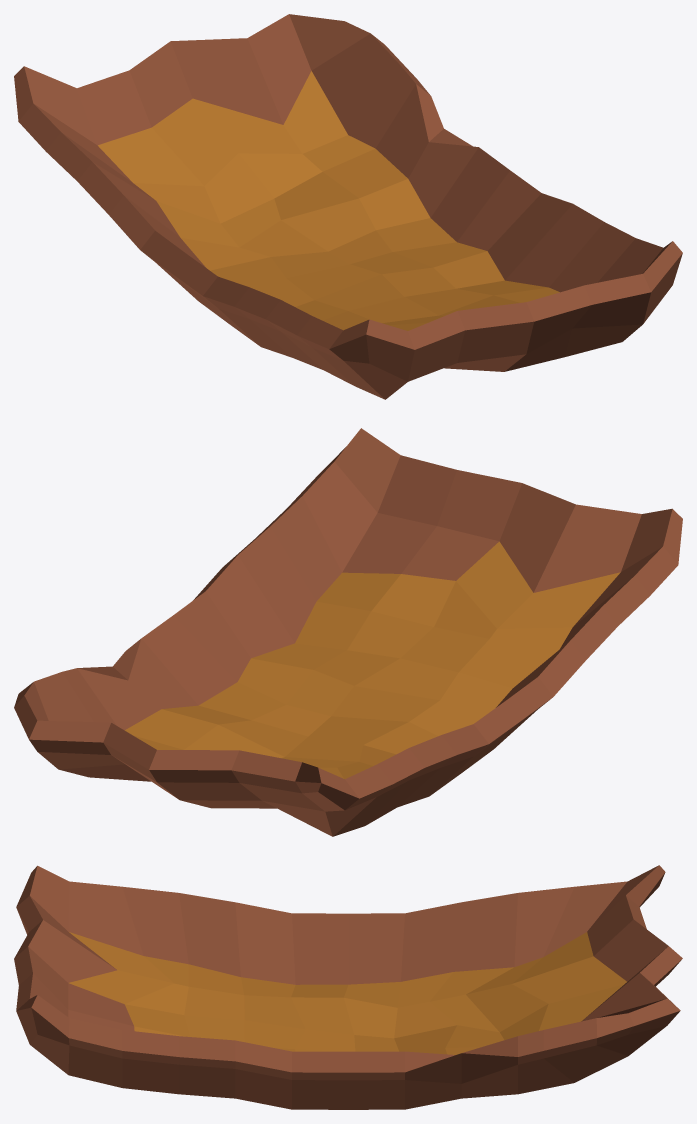
Rendered from cuenco_vacio.fbx.
The picture shows the model from 3 angles, top to bottom: view 1: azimuth 30°, elevation 25°; view 2: azimuth 150°, elevation 25°; view 3: azimuth 270°, elevation 25°; orthographic projection. The views are drawn at different scales.
Visible parts, largest first — view 1: Cube.050; view 2: Cube.050; view 3: Cube.050.
Part boxes in pixels (bbox=[...]): Cube.050: bbox=[14, 14, 682, 399]; Cube.050: bbox=[14, 428, 682, 836]; Cube.050: bbox=[14, 865, 682, 1109].
Size of the model in its own units: 194 by 76.04 by 353.
